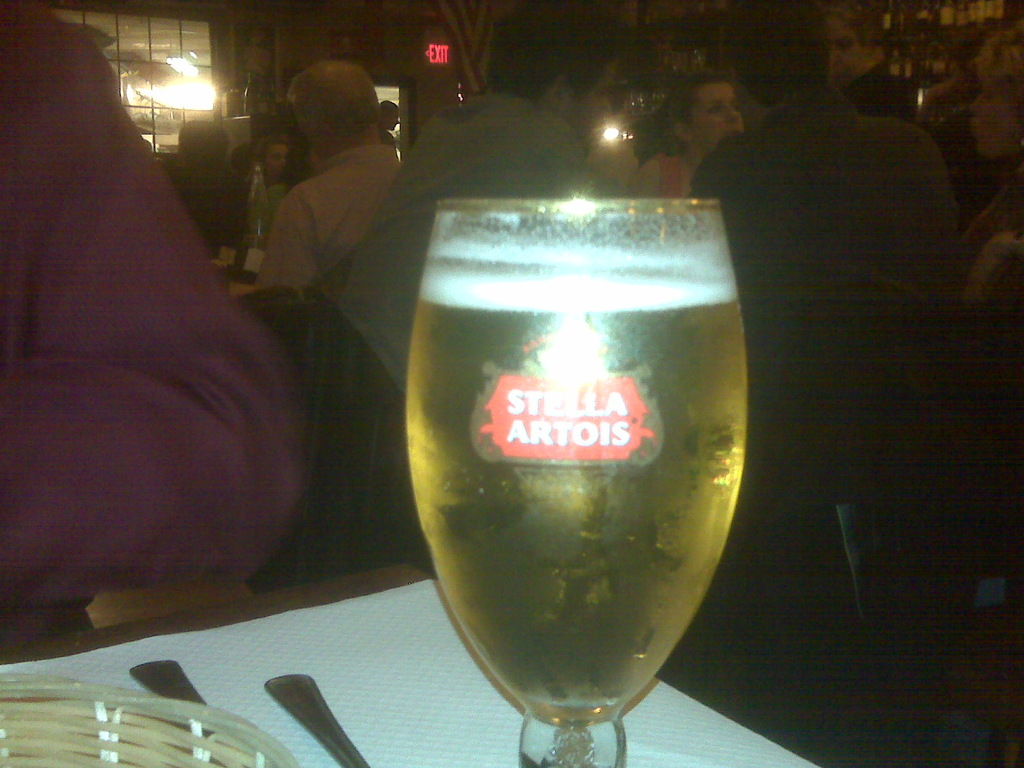Beer: (400, 188, 752, 767)
